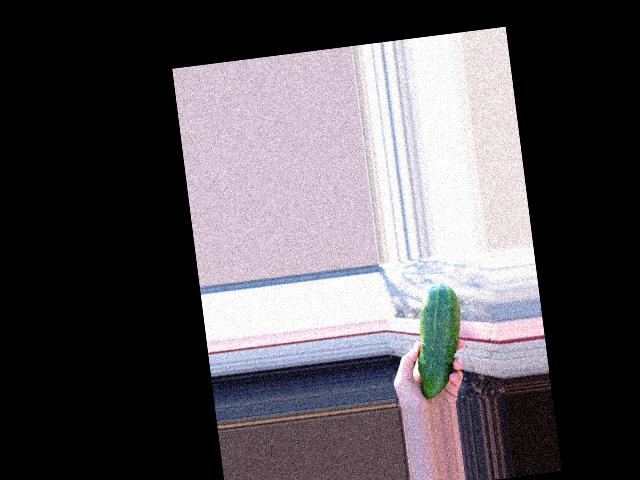cucumber: (408, 282, 471, 398)
